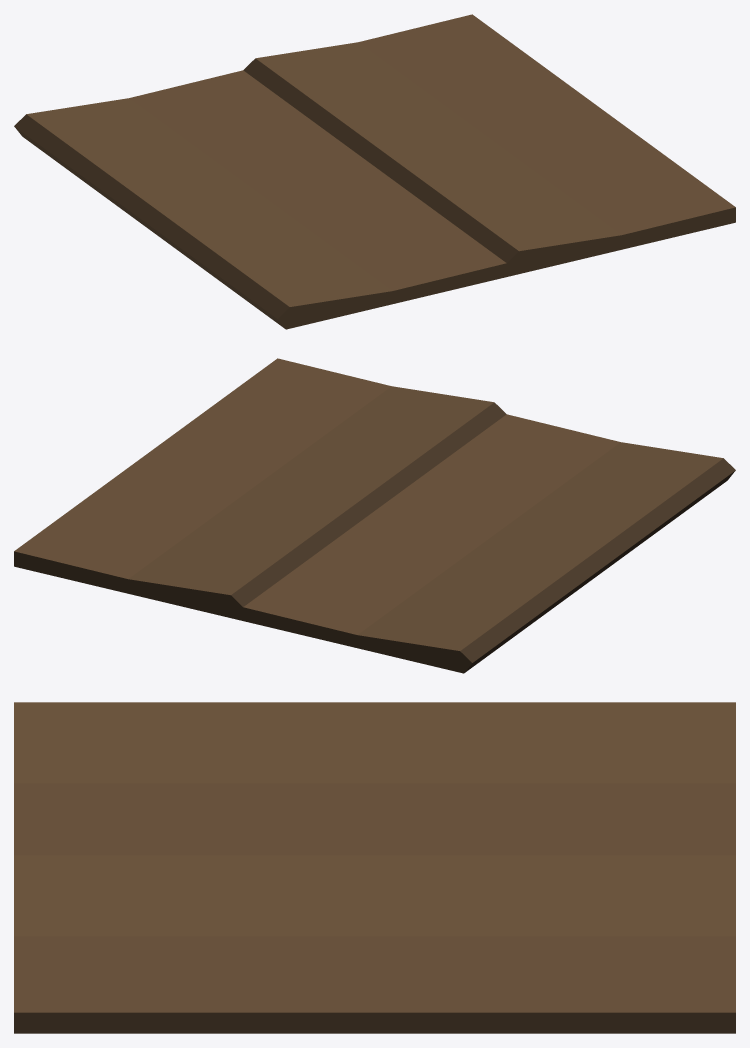
The model's file is Floor_2_Brown.fbx.
3 renders of one model, top to bottom at view 1: azimuth 30°, elevation 25°; view 2: azimuth 150°, elevation 25°; view 3: azimuth 270°, elevation 25°, orthographic. The views are drawn at different scales.
Parts seen in each view (by area): view 1: Floor_2_Brown_Part_1, Floor_2_Brown_Part_2; view 2: Floor_2_Brown_Part_1, Floor_2_Brown_Part_2; view 3: Floor_2_Brown_Part_1, Floor_2_Brown_Part_2.
Boxes of the visible parts, box(x1,y1,x2,y2) form: Floor_2_Brown_Part_1: box(26, 14, 735, 306); Floor_2_Brown_Part_2: box(14, 58, 735, 329); Floor_2_Brown_Part_1: box(14, 358, 723, 650); Floor_2_Brown_Part_2: box(14, 402, 735, 673); Floor_2_Brown_Part_1: box(14, 702, 735, 1012); Floor_2_Brown_Part_2: box(14, 1012, 735, 1033).
Size of the model in its own units: 502 by 25.44 by 500.
